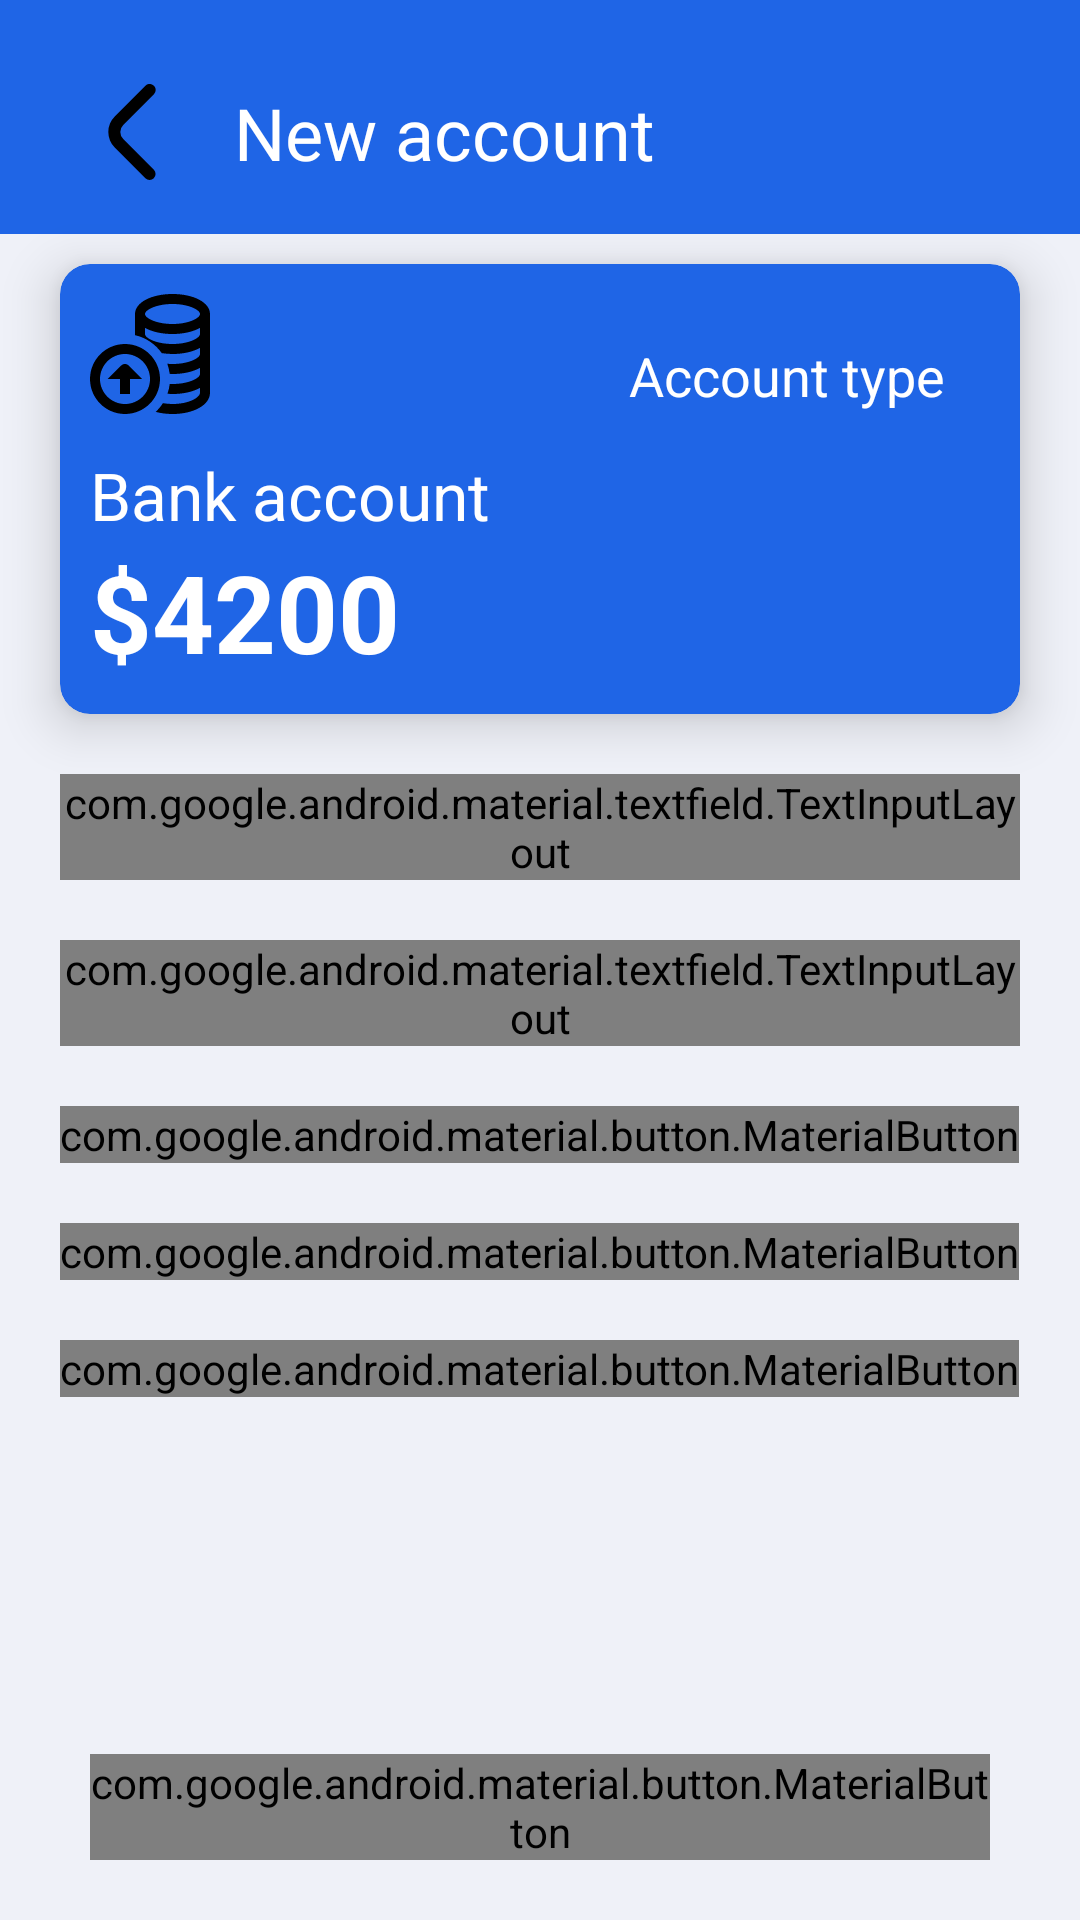

Point at icon controls on the screen. Image size 1080 x 1920, points as point (x, y).
back: point (132, 132)
invest: point (150, 354)
